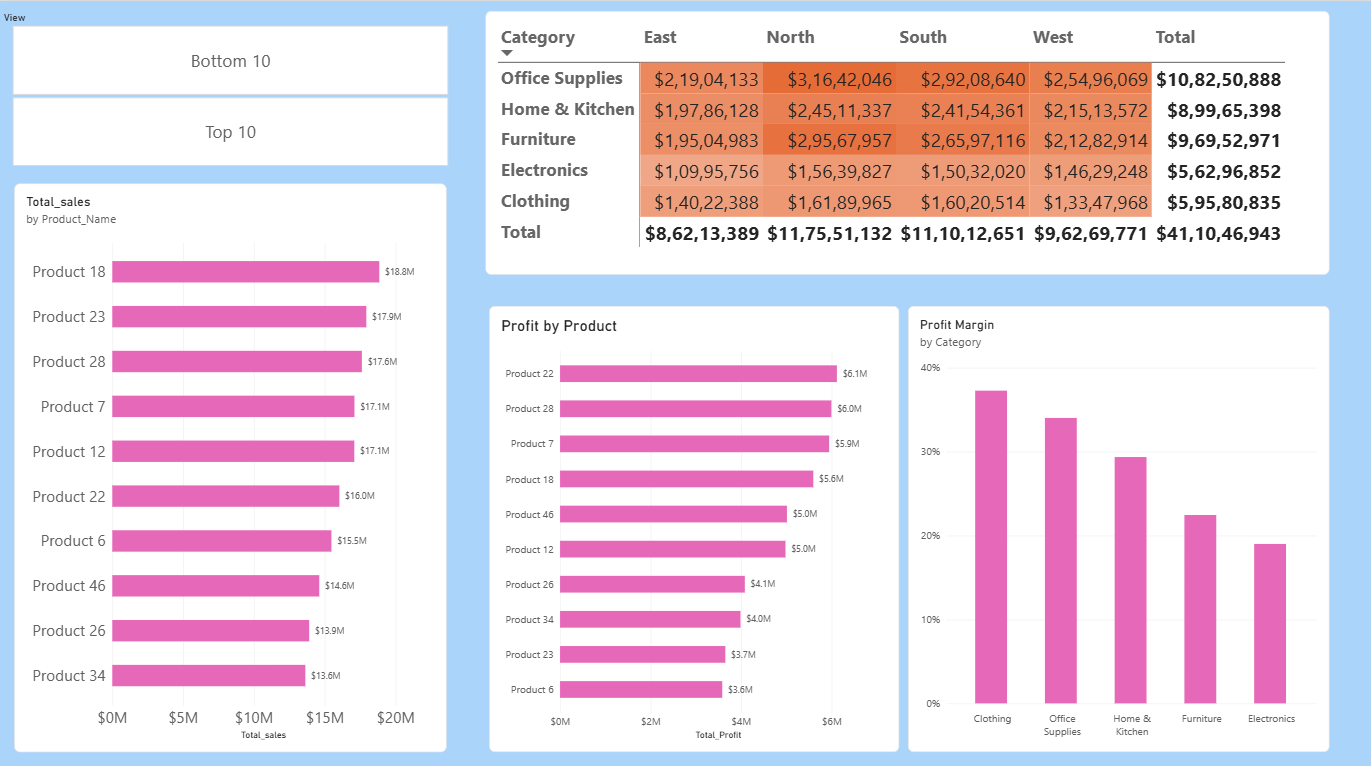

Layout of this report page (visuals, bound fields, positions):
{"tool":"powerbi","page":{"name":"Product & Profitability Analysis","canvas":[1920,1080],"ordinal":1},"visuals":[{"type":"clusteredBarChart","title":"Profit by Product","fields":{"Category":["retail_sales_customer_analytics.Product_Name"],"Y":["retail_sales_customer_analytics.Total_Profit"]},"box":[685.5,425.6,572.1,622.7],"z":1000},{"type":"clusteredColumnChart","fields":{"Category":["retail_sales_customer_analytics.Category"],"Y":["Product View.Test Profit Margin"]},"box":[1269.8,425.6,587.8,622.7],"z":2000},{"type":"clusteredBarChart","fields":{"Category":["retail_sales_customer_analytics.Product_Name"],"Y":["retail_sales_customer_analytics.Total_sales"]},"box":[22.7,254.7,603.5,793.6],"z":3000},{"type":"slicer","fields":{"Values":["Product View.View"]},"box":[0,14,647.1,218],"z":4000},{"type":"pivotTable","fields":{"Rows":["retail_sales_customer_analytics.Category"],"Columns":["retail_sales_customer_analytics.Region"],"Values":["retail_sales_customer_analytics.Total_sales"]},"box":[680.2,14,1177.3,368],"z":5000}]}

Visuals, with their boxes on the page's 1920x1080 design canvas (x1, y1, x2, y2). These are canvas units, not pixel positions in the 1371x766 screenshot, which may show the page scaled, cropped or inside an application window:
"Profit by Product" clusteredBarChart: 686,426,1258,1048
clusteredColumnChart - retail_sales_customer_analytics.Category x Product View.Test Profit Margin: 1270,426,1858,1048
clusteredBarChart - retail_sales_customer_analytics.Product_Name x retail_sales_customer_analytics.Total_sales: 23,255,626,1048
slicer - Product View.View: 0,14,647,232
pivotTable - retail_sales_customer_analytics.Category x retail_sales_customer_analytics.Region: 680,14,1858,382
